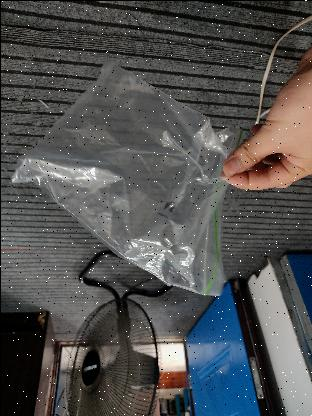Others: (12, 62, 246, 294)
